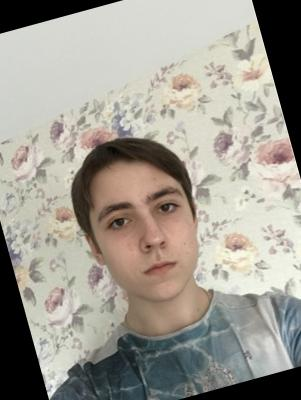without_mask: (85, 180, 214, 317)
